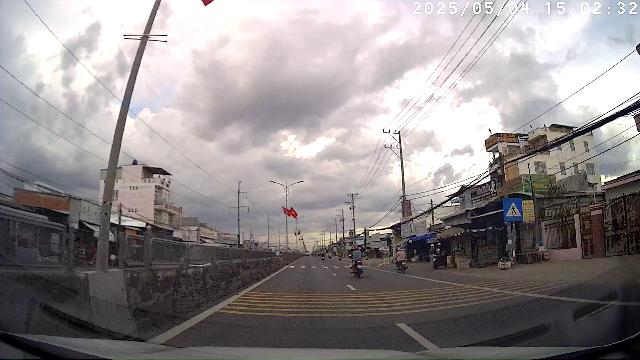423a-duong-nguoi-di-bo-sang-ngang-1: (504, 198, 524, 221)
